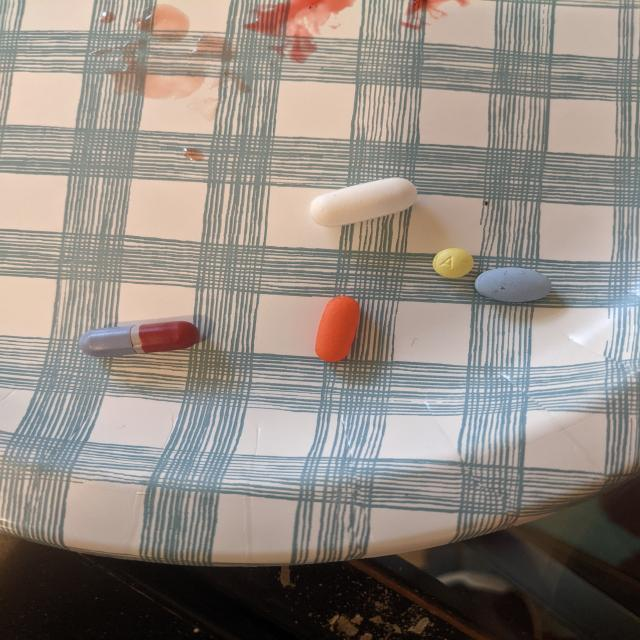non-organic waste: (308, 176, 419, 228), (76, 318, 201, 358), (314, 296, 362, 364), (473, 265, 555, 304), (431, 248, 475, 278)
